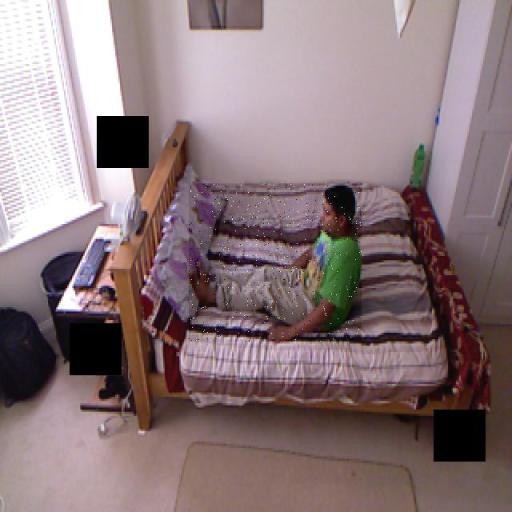Fall: (189, 183, 362, 342)
